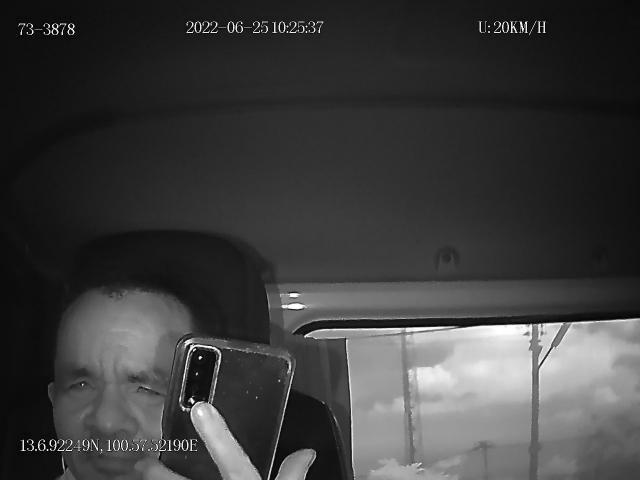PhoneUse: (160, 334, 294, 480)
SafeDriving: (58, 367, 102, 401)
